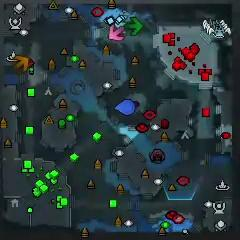p1: (115, 100, 135, 115)
x1: (108, 24, 123, 40)
x3: (106, 16, 126, 28)
x4: (125, 17, 143, 36)
x5: (13, 55, 30, 73)
